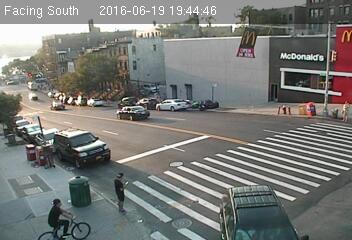neg: (39, 190, 76, 239), (274, 100, 290, 120), (235, 105, 247, 122)
pos: (102, 171, 135, 215)
